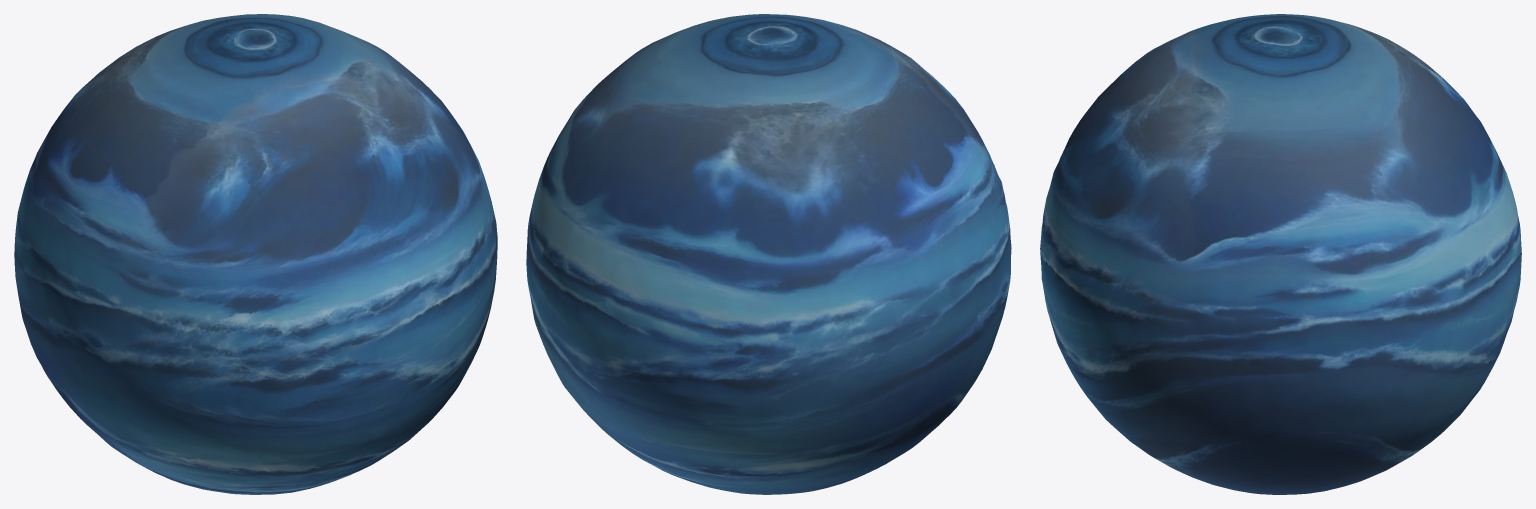
The model's file is water_planet_6.glb.
3 views of the same model, side by side, from view 1: azimuth 30°, elevation 25°; view 2: azimuth 150°, elevation 25°; view 3: azimuth 270°, elevation 25° (orthographic).
Parts seen in each view (by area): view 1: Mesh_0.049; view 2: Mesh_0.049; view 3: Mesh_0.049.
Boxes of the visible parts, x1,y1,x2,y2 form: Mesh_0.049: (14,14,497,494); Mesh_0.049: (526,14,1011,494); Mesh_0.049: (1040,14,1521,494).
Size of the model in its own units: 2 by 2 by 2.
1 material, 1 textured.
